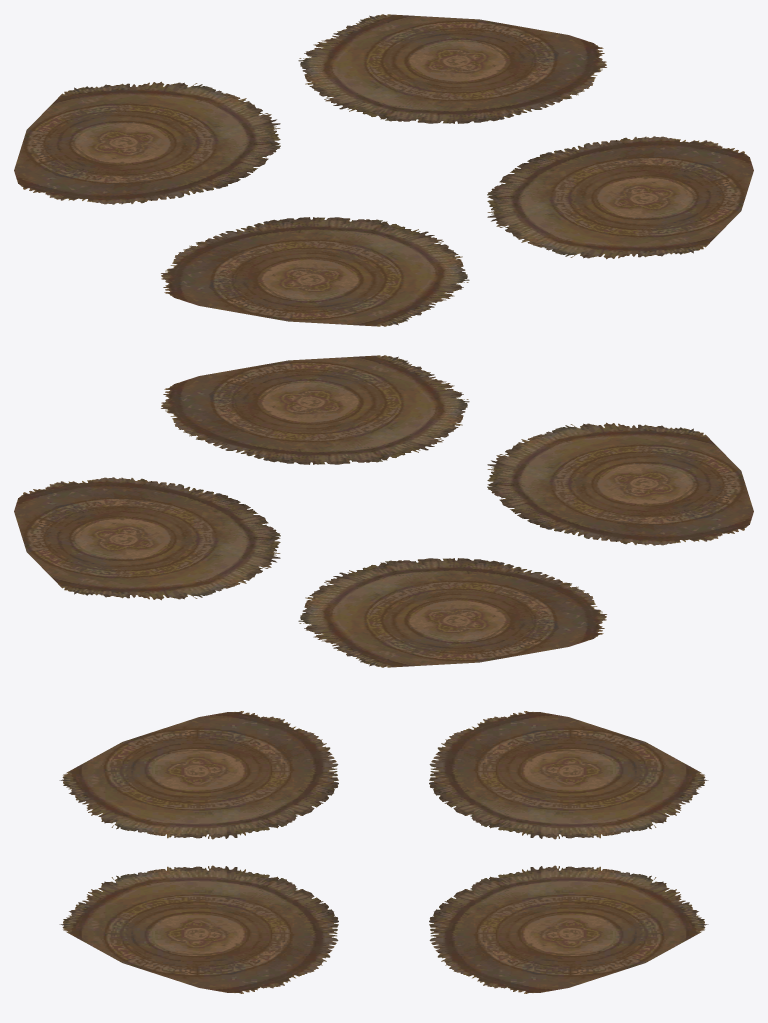
Rendered from tx_floor_ditan.FBX.
3 views of the same model, one above another, from view 1: azimuth 30°, elevation 25°; view 2: azimuth 150°, elevation 25°; view 3: azimuth 270°, elevation 25° (orthographic).
Visible parts, largest first — view 1: Cylinder003; view 2: Cylinder003; view 3: Cylinder003.
Boxes of the visible parts, x1,y1,x2,y2 form: Cylinder003: (14, 14, 753, 326); Cylinder003: (14, 355, 753, 667); Cylinder003: (59, 711, 708, 993).
Bounding box in the file's own units: 1185 × 3.36e-13 × 1185.
